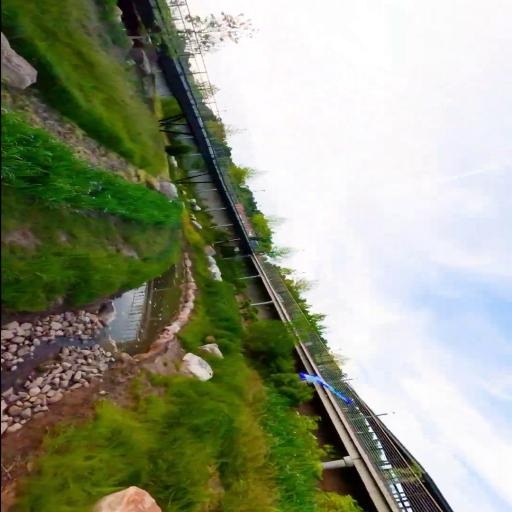uav: (296, 371, 356, 407)
